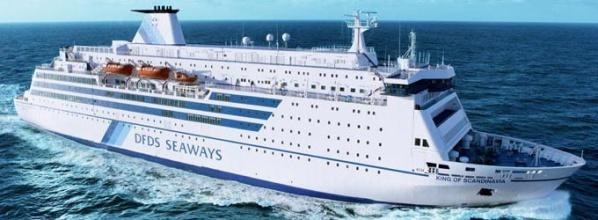youlun: (13, 5, 587, 207)
